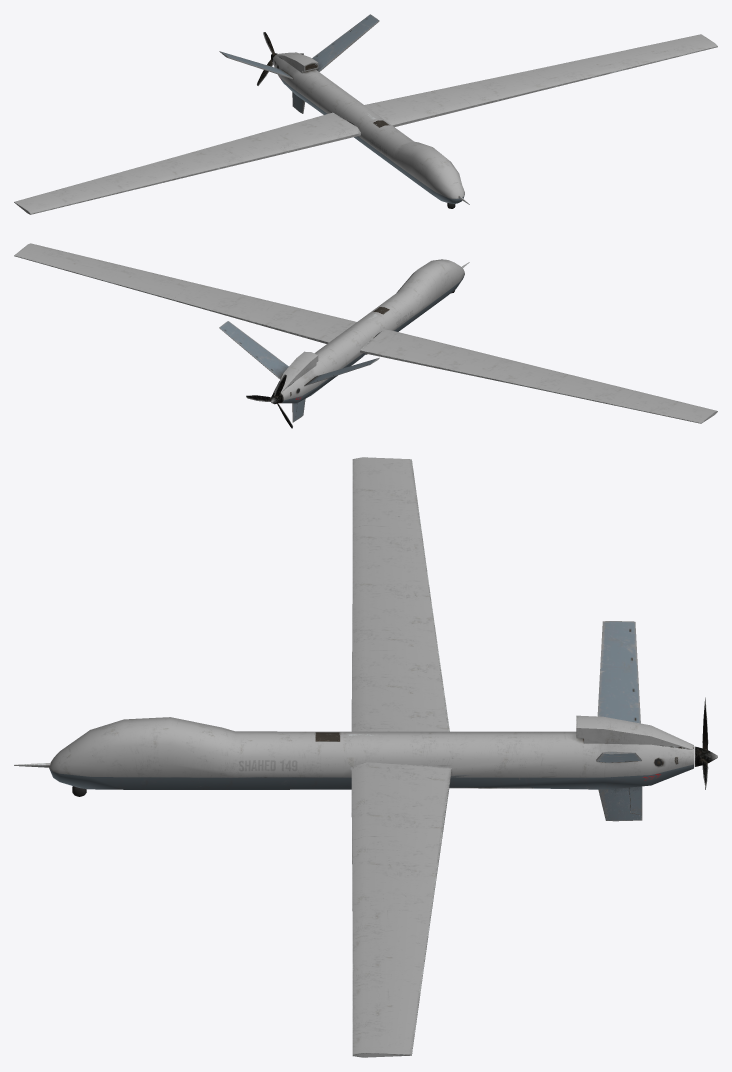
The model's file is SM_Shahed149.fbx.
3 views of the same model, one above another, from view 1: azimuth 30°, elevation 25°; view 2: azimuth 150°, elevation 25°; view 3: azimuth 270°, elevation 25° (orthographic). The views are drawn at different scales.
Visible parts, largest first — view 1: SM_Shahed149; view 2: SM_Shahed149; view 3: SM_Shahed149.
Part boxes in pixels (<box>): SM_Shahed149: <box>14,14,717,214</box>; SM_Shahed149: <box>14,243,717,428</box>; SM_Shahed149: <box>14,457,717,1057</box>.
Bounding box in the file's own units: 21.04 × 2.21 × 10.51.
